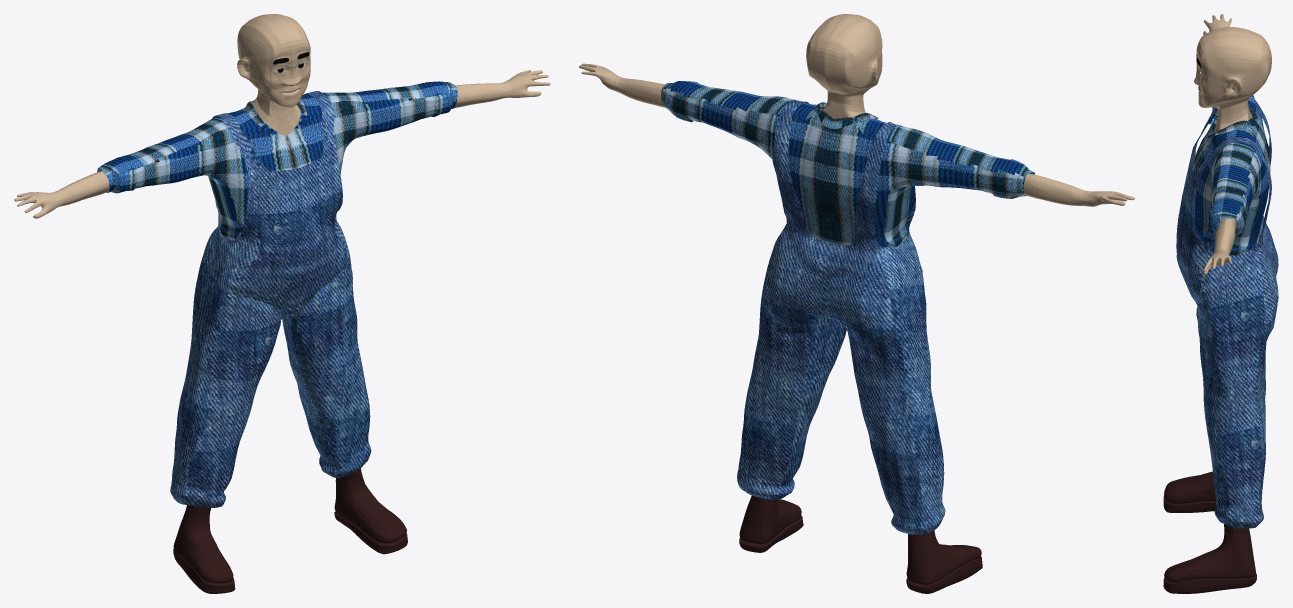
File: Preset_03.fbx
The picture shows the model from 3 angles, left to right: view 1: azimuth 30°, elevation 25°; view 2: azimuth 150°, elevation 25°; view 3: azimuth 270°, elevation 25°; orthographic projection. The views are drawn at different scales.
Visible parts, largest first — view 1: Touser, Shirt, Head, L_Leg, R_Leg, L_Arm, R_Arm; view 2: Touser, Shirt, Head, R_Leg, L_Leg, R_Arm, L_Arm; view 3: Touser, Shirt, Head, L_Leg, R_Leg, L_Arm, R_Arm.
Boxes of the visible parts, box(x1,y1,x2,y2) form: Touser: box(170, 91, 371, 507); Shirt: box(97, 81, 457, 240); Head: box(237, 14, 310, 135); L_Leg: box(334, 468, 407, 554); R_Leg: box(173, 505, 235, 593); L_Arm: box(454, 70, 550, 107); R_Arm: box(14, 171, 109, 218); Touser: box(737, 99, 945, 534); Shirt: box(661, 81, 1034, 247); Head: box(806, 14, 882, 118); R_Leg: box(906, 530, 982, 593); L_Leg: box(739, 495, 803, 552); R_Arm: box(1023, 173, 1134, 206); L_Arm: box(579, 63, 665, 107); Touser: box(1176, 96, 1278, 528); Shirt: box(1191, 95, 1270, 255); Head: box(1194, 27, 1271, 132); L_Leg: box(1163, 524, 1256, 593); R_Leg: box(1163, 471, 1216, 512); L_Arm: box(1203, 218, 1236, 274); R_Arm: box(1203, 14, 1231, 34).
Size of the model in its own units: 233 by 222 by 44.82.
6 materials, 4 textured.
